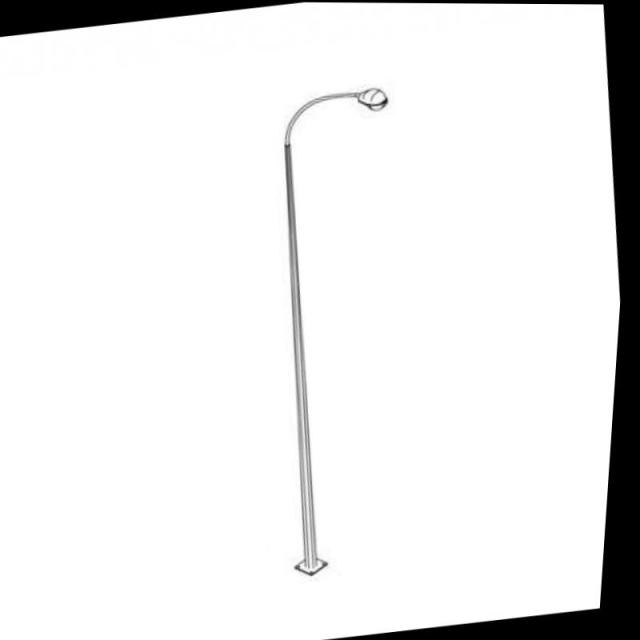pole: (279, 227, 332, 588)
